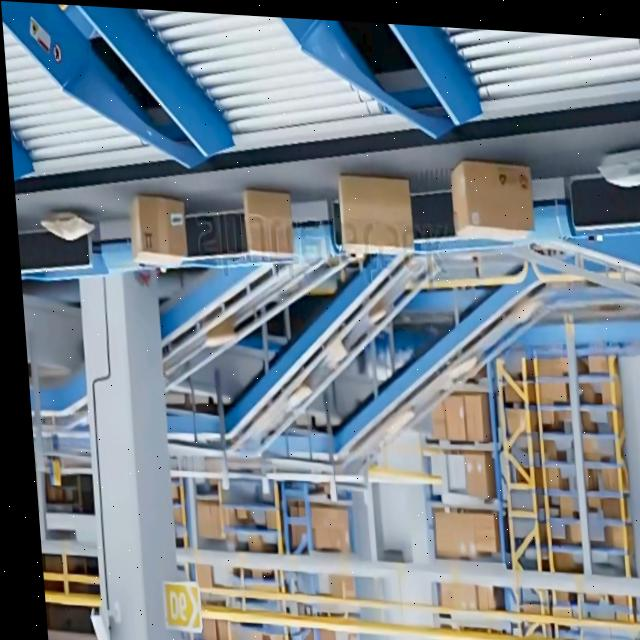product 1: (335, 172, 415, 259), (126, 193, 189, 269), (241, 188, 295, 257)
product 2: (63, 209, 97, 243)
